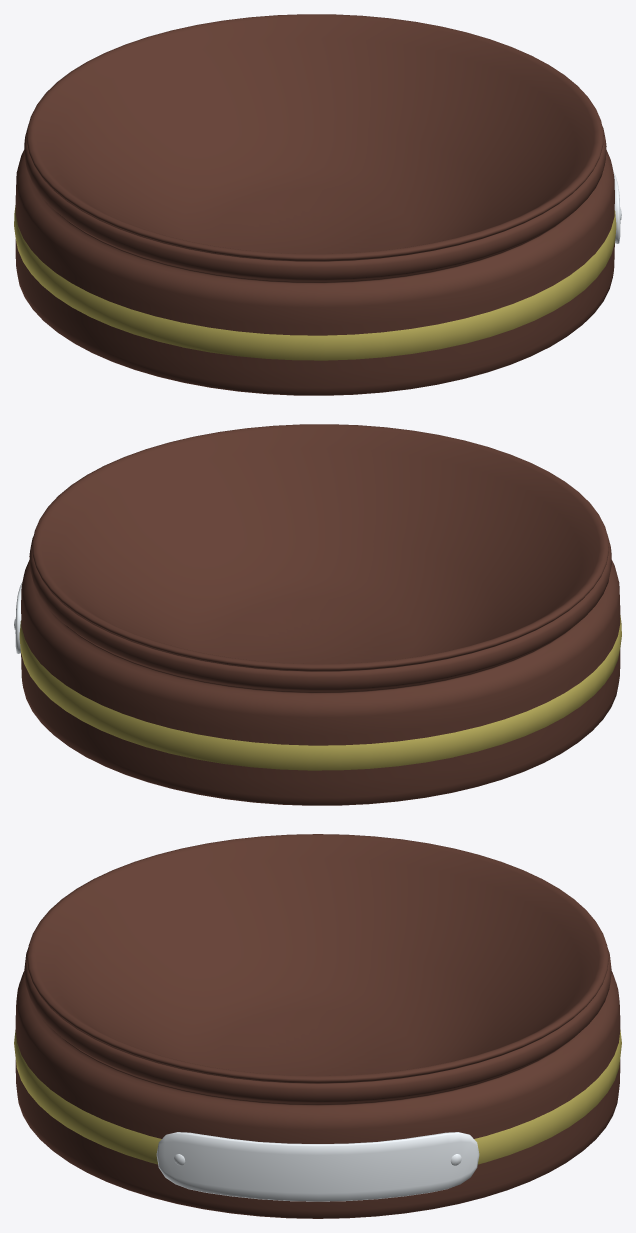
Rendered from bottom3.glb.
The picture shows the model from 3 angles, top to bottom: view 1: azimuth 30°, elevation 25°; view 2: azimuth 150°, elevation 25°; view 3: azimuth 270°, elevation 25°; orthographic projection.
Visible parts, largest first — view 1: mainColor, line; view 2: mainColor, line; view 3: mainColor, nameTag, line.
Part boxes in pixels (left/top/right/bottom): mainColor: left=15, top=14, right=614, bottom=395; line: left=14, top=205, right=616, bottom=360; mainColor: left=21, top=424, right=620, bottom=805; line: left=19, top=615, right=621, bottom=770; mainColor: left=15, top=834, right=620, bottom=1218; nameTag: left=156, top=1132, right=479, bottom=1201; line: left=14, top=1030, right=621, bottom=1164.
Size of the model in its own units: 10.65 by 2.66 by 10.59.
